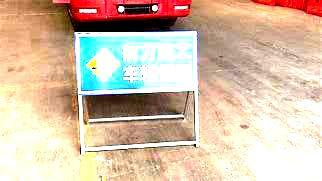sign: (76, 33, 195, 93)
